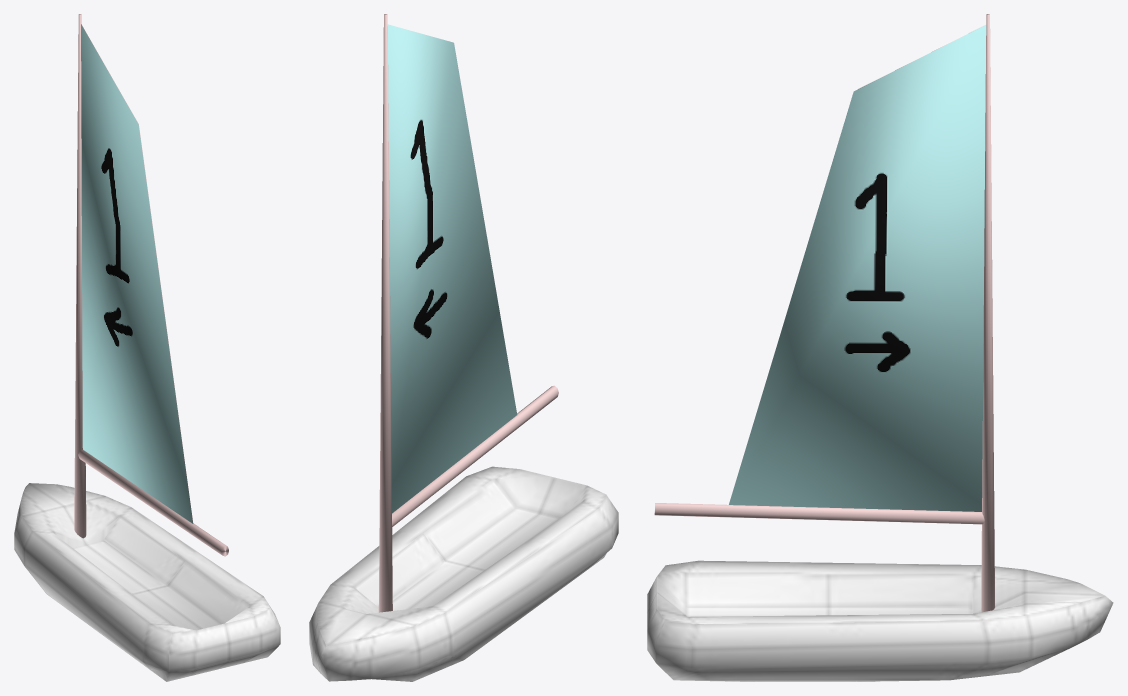
Rendered from boat1.obj.
3 renders of one model, left to right at view 1: azimuth 30°, elevation 25°; view 2: azimuth 150°, elevation 25°; view 3: azimuth 270°, elevation 25°, orthographic. The views are drawn at different scales.
Parts seen in each view (by area): view 1: Cylinder_Cylinder.003, Cube_Cube.001; view 2: Cylinder_Cylinder.003, Cube_Cube.001; view 3: Cylinder_Cylinder.003, Cube_Cube.001.
Boxes of the visible parts, x1,y1,x2,y2 form: Cylinder_Cylinder.003: (74, 14, 228, 556); Cube_Cube.001: (14, 483, 280, 681); Cylinder_Cylinder.003: (378, 14, 558, 612); Cube_Cube.001: (309, 466, 618, 681); Cylinder_Cylinder.003: (654, 14, 994, 612); Cube_Cube.001: (647, 560, 1113, 681).
Bounding box in the file's own units: 2 × 8.39 × 5.39.
Materials: 2 (2 with a texture image).
